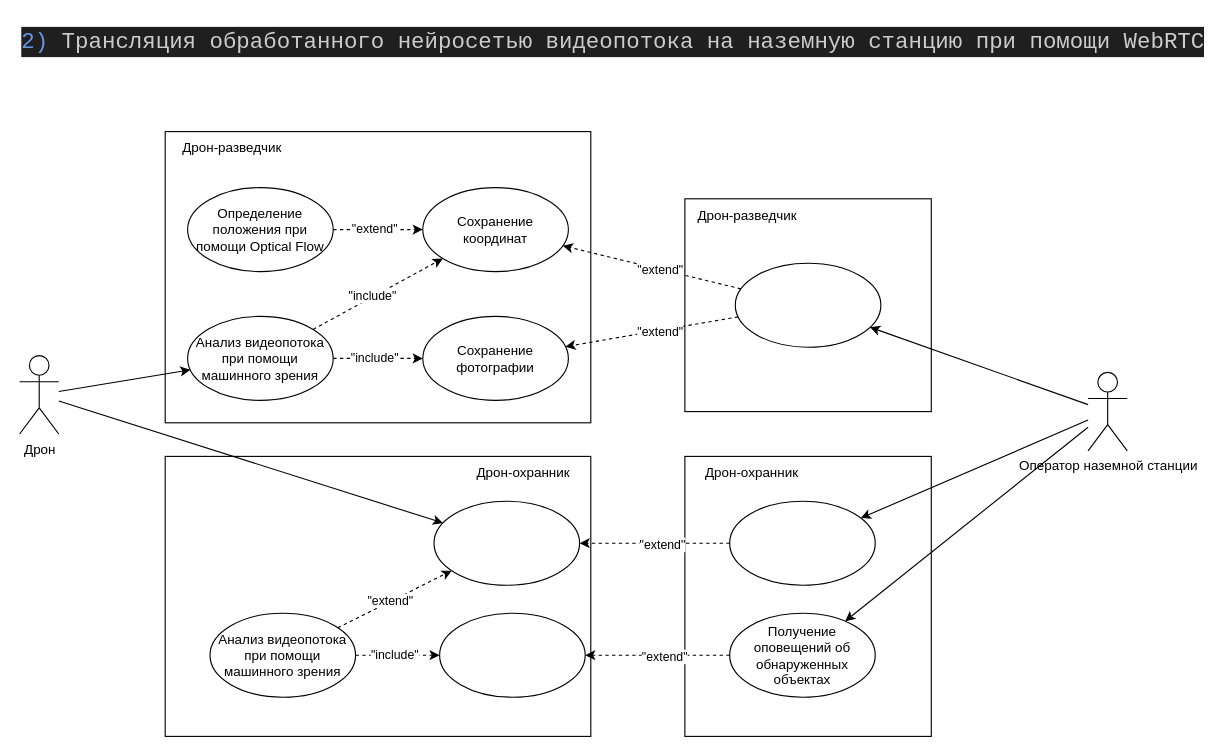
The diagram is 1224 pixels wide and 756 high, and some of its shapes have lost their labels. The centre of each missing label's shape, as x and y in pixels:
"Отправка оповещения на НС при обнаружении" belongs at pixel 511 654.
"Просмотр видеотрансляции с камеры дрона" belongs at pixel 802 542.
"Просмотр результатов миссии" belongs at pixel 807 304.
"Трансляция видео с камеры дрона в локальной сети" belongs at pixel 506 542.
